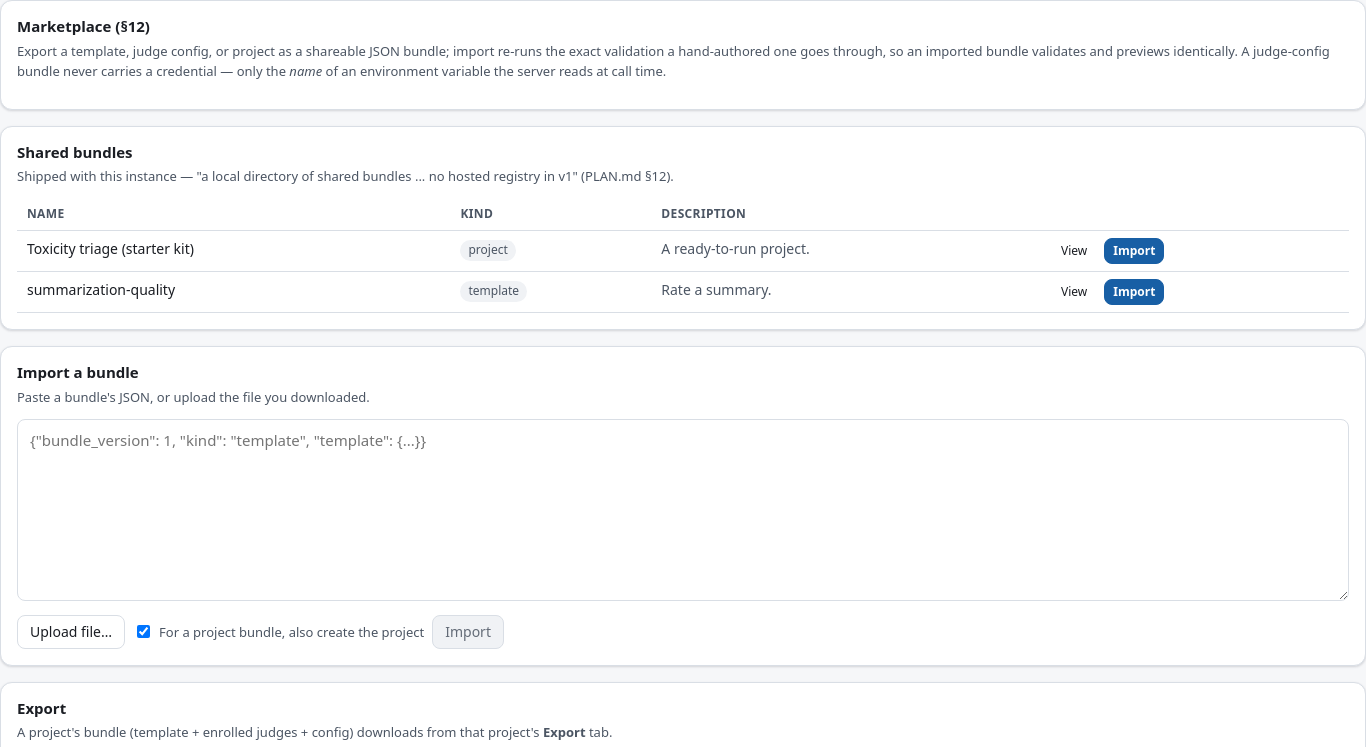
Test: MarketplacePanel › imports a shipped bundle by filename and reports what was created
expect the row with test id "local-bundle-toxicity-triage.json" is shown: met, box [17,231,1349,272]
Step 1. Click the button with test id "local-bundle-import-toxicity-triage.json" → x=1134, y=251, box [1104,238,1164,264]
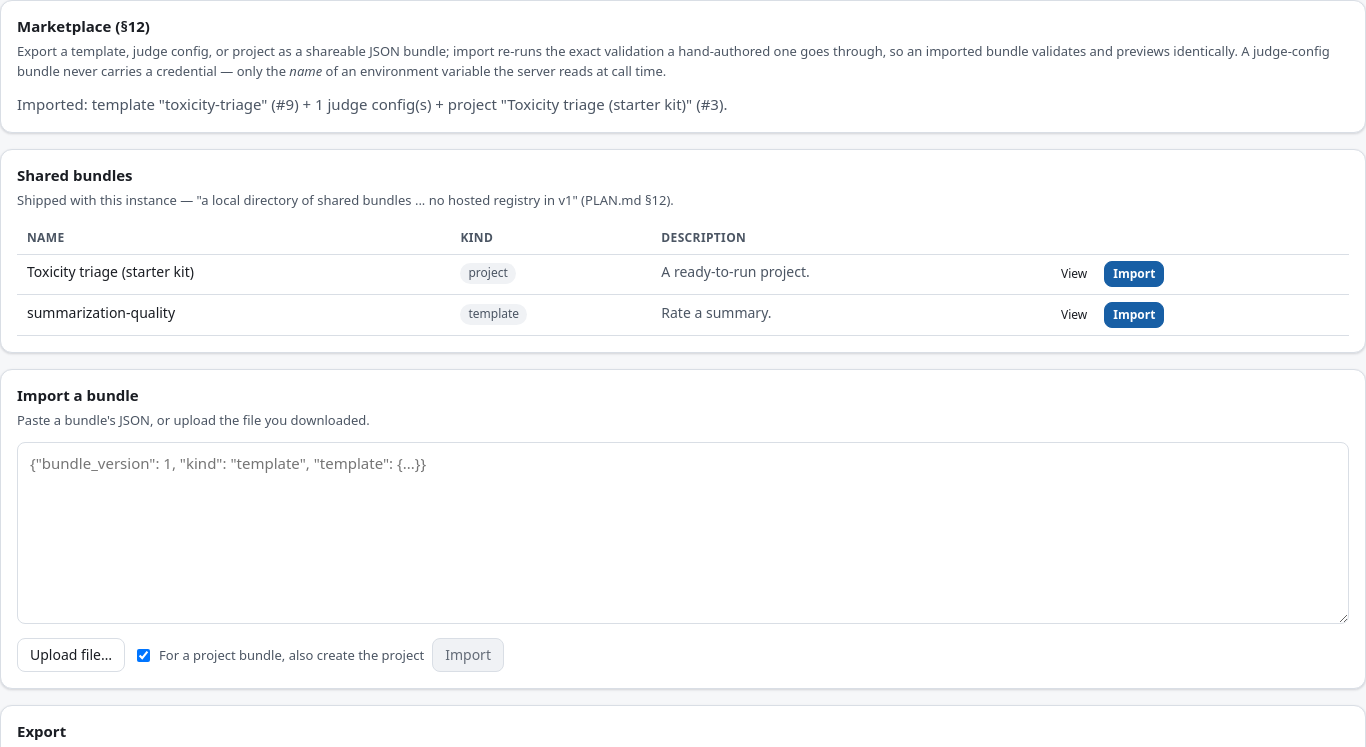
expect the text with test id "marketplace-result" shows "toxicity-triage": met, box [92,94,723,114]
expect the text with test id "marketplace-result" shows "Toxicity triage (starter kit)": met, box [92,94,723,114]
